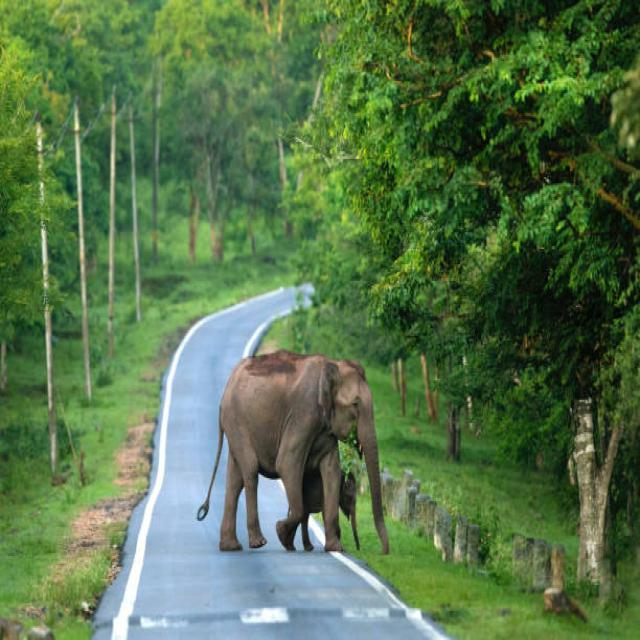Elephant: (206, 331, 412, 577)
